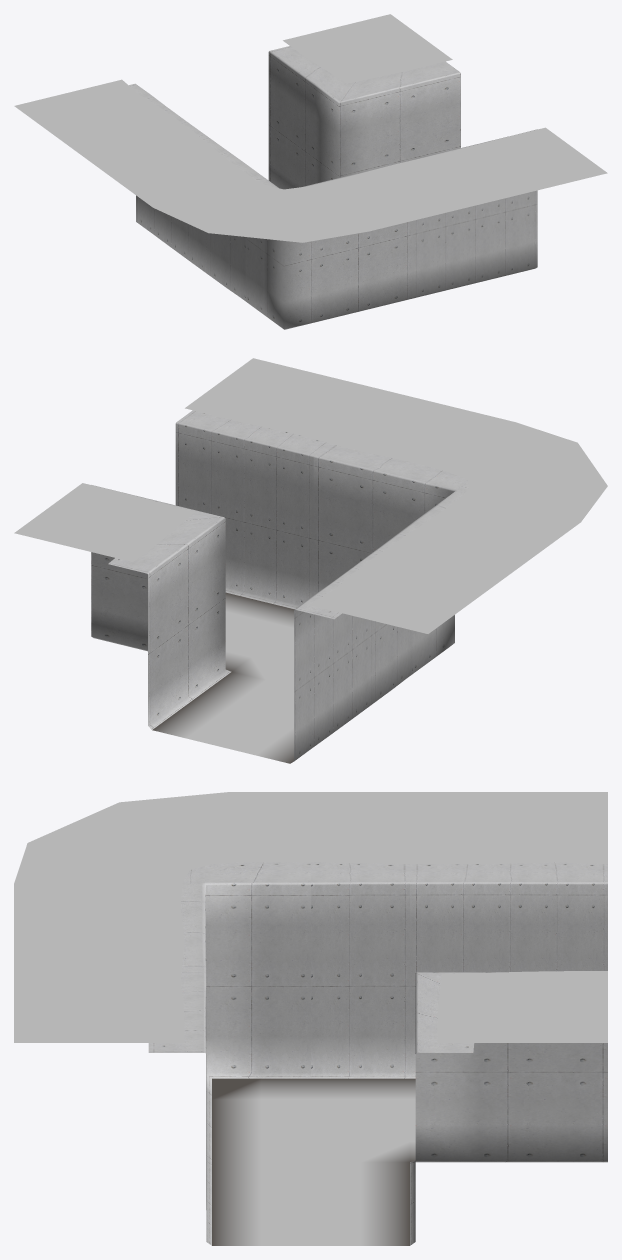
Rendered from Lji.fbx.
3 renders of one model, top to bottom at view 1: azimuth 30°, elevation 25°; view 2: azimuth 150°, elevation 25°; view 3: azimuth 270°, elevation 25°, orthographic. The views are drawn at different scales.
Parts seen in each view (by area): view 1: polySurface22, polySurface21, blockA11, pPlane1; view 2: polySurface21, polySurface22, blockA11, polySurface23, pPlane1; view 3: polySurface21, polySurface22, polySurface23, blockA11, pPlane1.
Part boxes in pixels (bbox=[...]): polySurface22: bbox=[14, 79, 607, 242]; polySurface21: bbox=[129, 83, 537, 329]; blockA11: bbox=[268, 46, 460, 189]; pPlane1: bbox=[283, 14, 452, 83]; polySurface21: bbox=[175, 410, 468, 762]; polySurface22: bbox=[185, 358, 607, 633]; blockA11: bbox=[91, 485, 231, 729]; polySurface23: bbox=[152, 592, 294, 763]; pPlane1: bbox=[14, 483, 194, 561]; polySurface21: bbox=[148, 862, 607, 1245]; polySurface22: bbox=[14, 792, 607, 1042]; polySurface23: bbox=[212, 1078, 415, 1245]; blockA11: bbox=[410, 972, 607, 1245]; pPlane1: bbox=[437, 971, 607, 1042].
Bounding box in the file's own units: 900 × 339 × 900.
